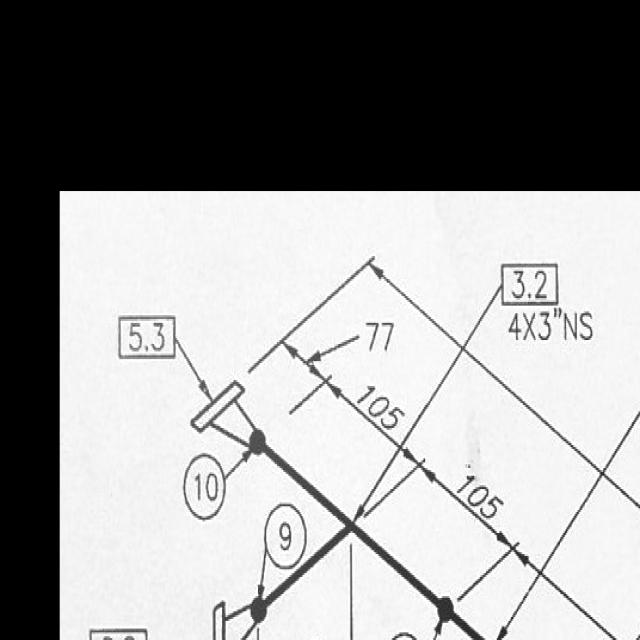Item number: (115, 311, 179, 364), (500, 258, 561, 310), (359, 318, 398, 362), (87, 625, 148, 638)
Measrement: (506, 303, 596, 349)
Pipeline: (247, 425, 505, 638)
Symbol: (188, 373, 254, 451), (210, 584, 275, 638)
Weld number: (182, 448, 228, 525), (263, 498, 308, 572), (386, 629, 423, 638)
